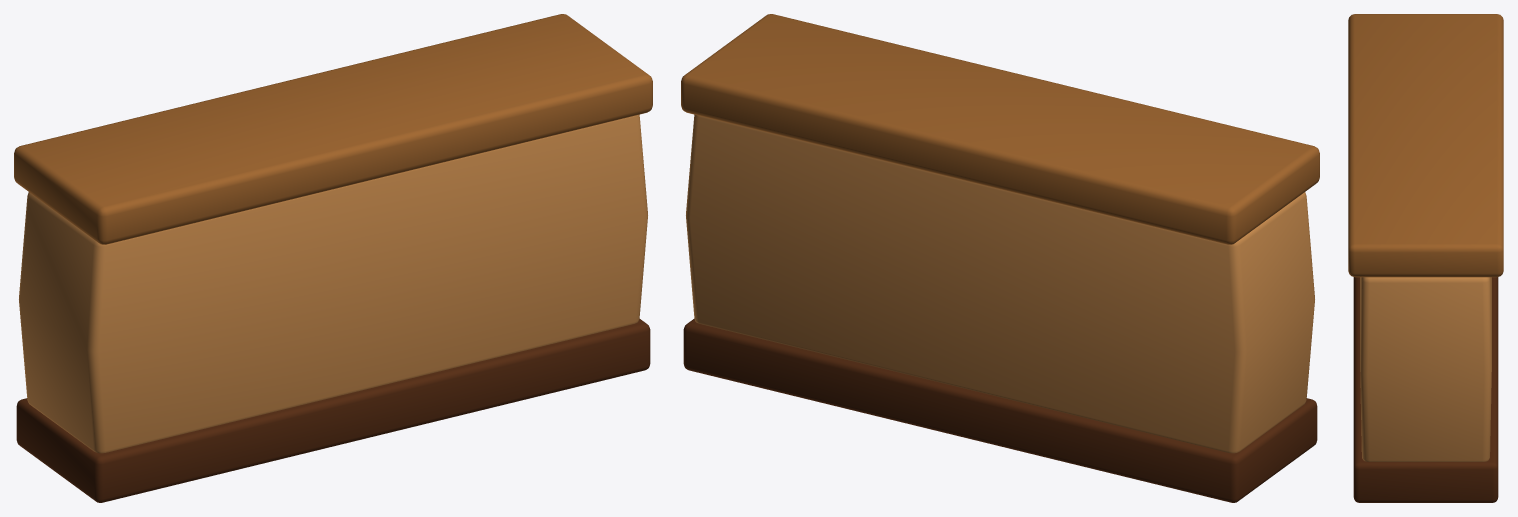
Rendered from Separator_wall.gltf.
The picture shows the model from 3 angles, left to right: view 1: azimuth 30°, elevation 25°; view 2: azimuth 150°, elevation 25°; view 3: azimuth 270°, elevation 25°; orthographic projection. The views are drawn at different scales.
Parts seen in each view (by area): view 1: HalfWallBase; view 2: HalfWallBase; view 3: HalfWallBase.
Part boxes in pixels (x1,y1,x2,y2): HalfWallBase: [14, 14, 652, 502]; HalfWallBase: [681, 14, 1319, 502]; HalfWallBase: [1348, 14, 1503, 502].
Bounding box in the file's own units: 1.01 × 0.5125 × 0.28.
